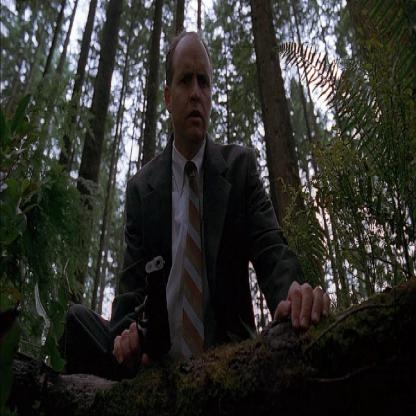Gun: (110, 252, 178, 367)
